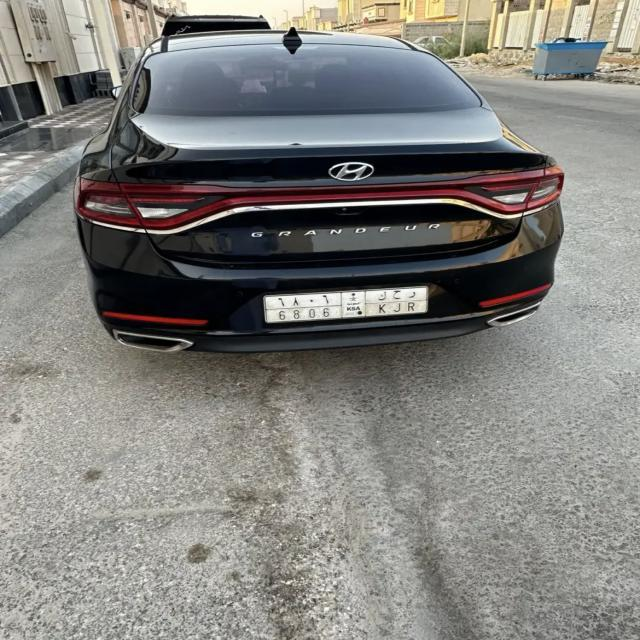license_plate: (261, 284, 429, 321)
